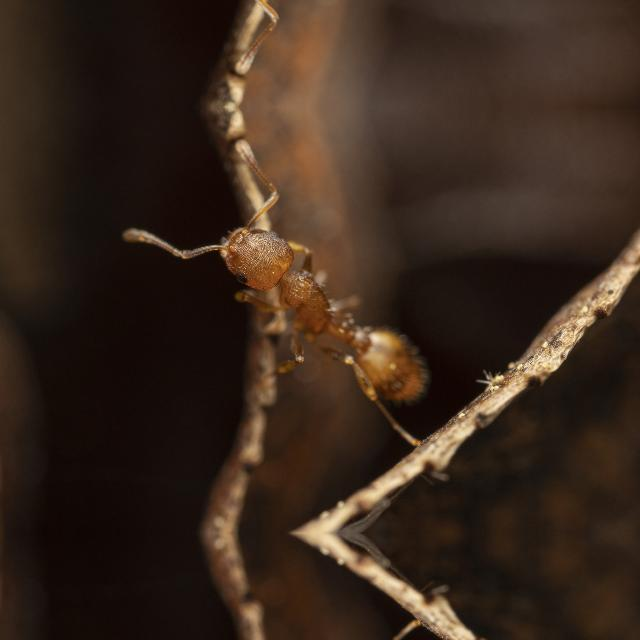Temnothorax: (172, 177, 460, 421)
